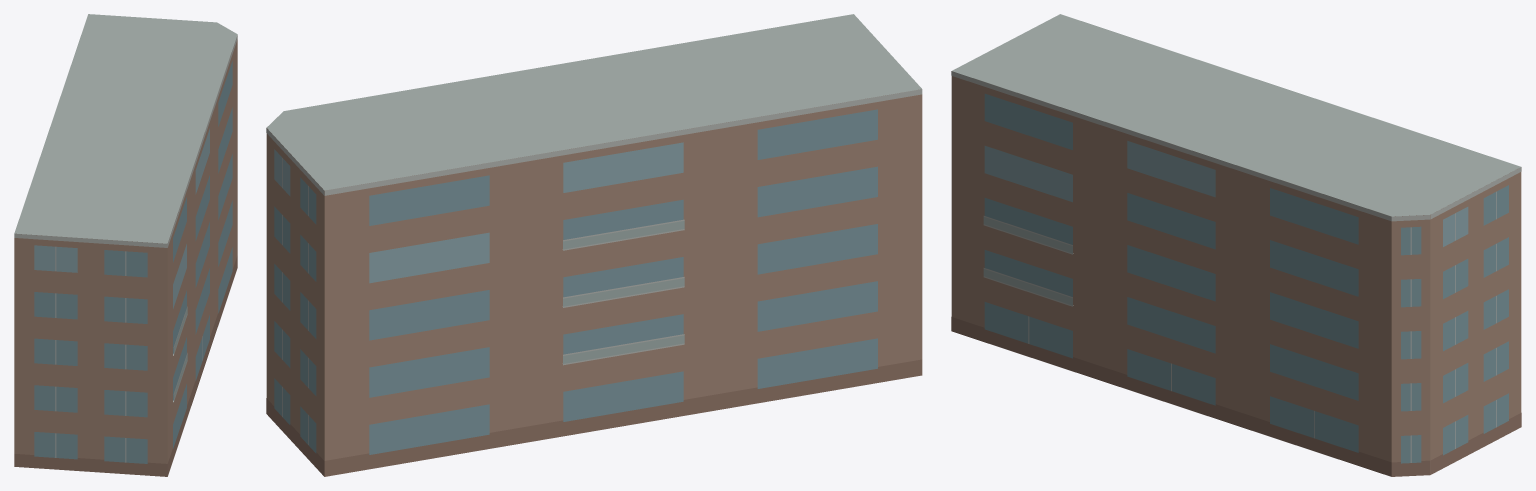
The model's file is survey-upis-32769901.glb.
3 renders of one model, left to right at view 1: azimuth 30°, elevation 25°; view 2: azimuth 150°, elevation 25°; view 3: azimuth 270°, elevation 25°, orthographic. The views are drawn at different scales.
Parts seen in each view (by area): view 1: survey-upis-32769901.tmp; view 2: survey-upis-32769901.tmp; view 3: survey-upis-32769901.tmp.
Part boxes in pixels (left/top/right/bottom): survey-upis-32769901.tmp: left=14, top=14, right=237, bottom=476; survey-upis-32769901.tmp: left=266, top=14, right=922, bottom=476; survey-upis-32769901.tmp: left=951, top=14, right=1521, bottom=476.
Size of the model in its own units: 22.21 by 13.3 by 26.4.
